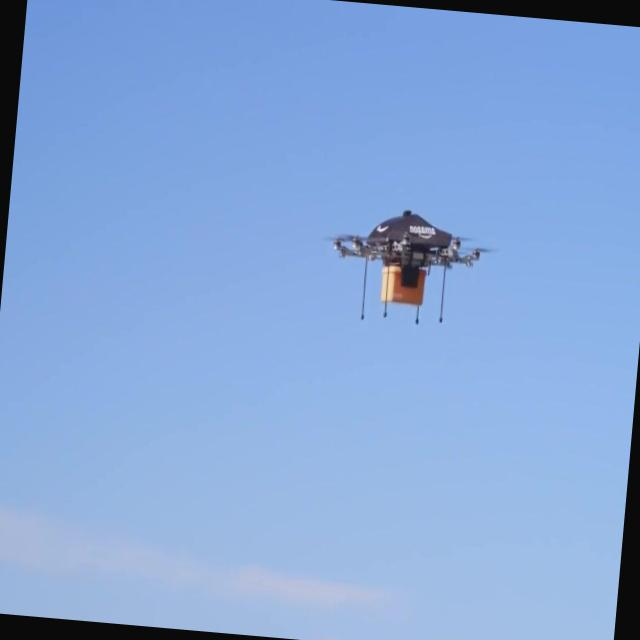drone: (318, 198, 496, 336)
